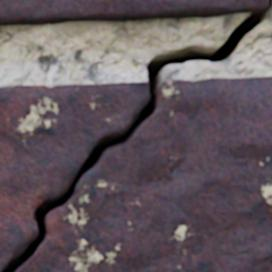brick: (0, 0, 267, 26)
broken_brick: (15, 77, 271, 271), (0, 83, 149, 271)
crack: (1, 0, 271, 271)
